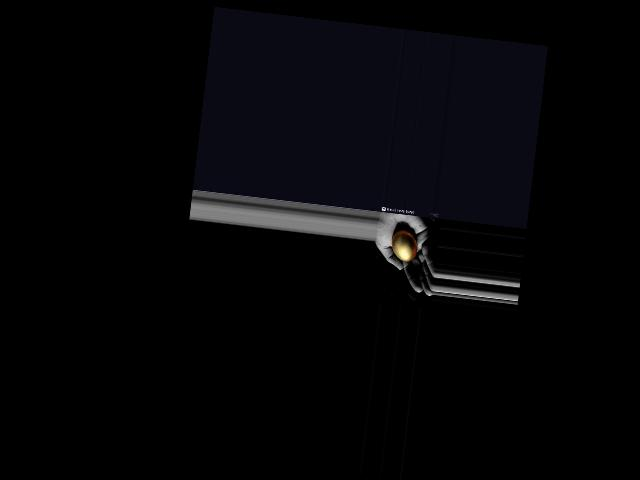egg: (390, 229, 419, 263)
